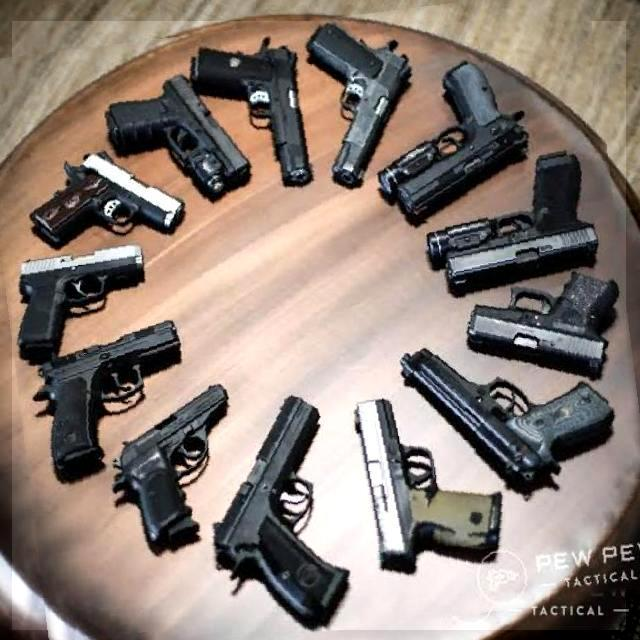pistol: (2, 17, 638, 637), (212, 394, 350, 630), (398, 347, 614, 493), (353, 398, 502, 574), (425, 149, 599, 297), (376, 59, 528, 221), (31, 319, 180, 483), (111, 383, 229, 555), (188, 34, 312, 186), (105, 74, 252, 202), (305, 21, 413, 188), (465, 270, 619, 380), (15, 243, 144, 364), (28, 148, 184, 248), (352, 397, 416, 573), (444, 224, 598, 296), (426, 210, 534, 266), (162, 124, 226, 200), (377, 138, 441, 195)
